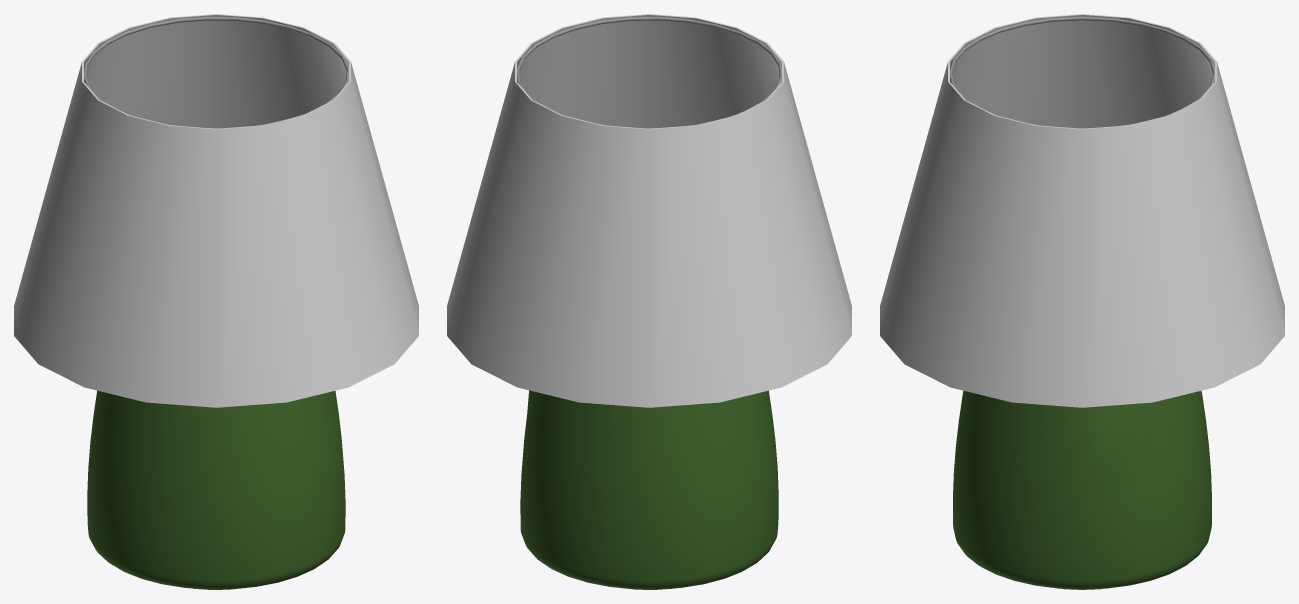
File: IKEA-Diabas_Table_Lamp-3D.obj
3 views of the same model, side by side, from view 1: azimuth 30°, elevation 25°; view 2: azimuth 150°, elevation 25°; view 3: azimuth 270°, elevation 25° (orthographic).
Parts seen in each view (by area): view 1: Object01; view 2: Object01; view 3: Object01.
Boxes of the visible parts, box(x1,y1,x2,y2) form: Object01: box(14, 14, 418, 589); Object01: box(447, 14, 851, 589); Object01: box(880, 14, 1284, 589).
Size of the model in its own units: 364 by 470 by 359.
